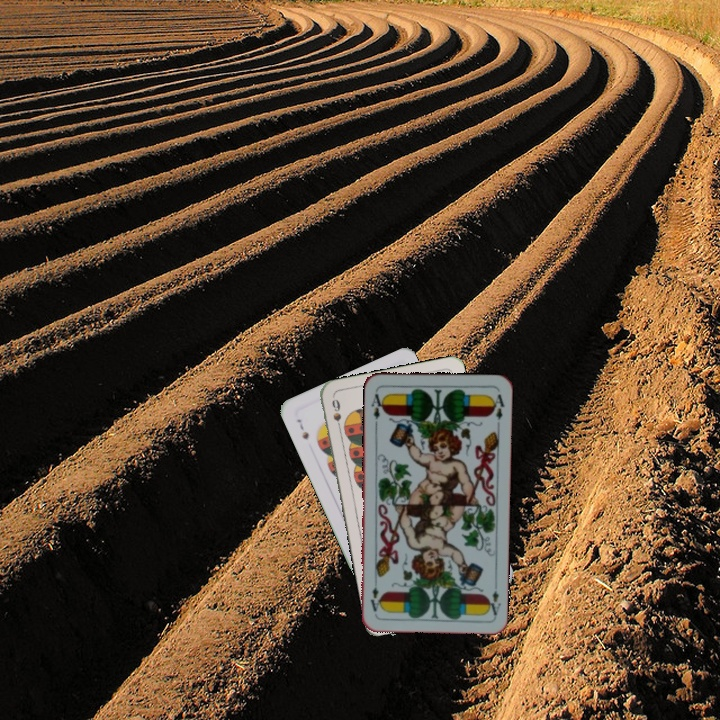EA: (367, 390, 387, 427), (483, 587, 503, 618)
S7: (292, 415, 312, 442)
S9: (328, 395, 344, 435)
